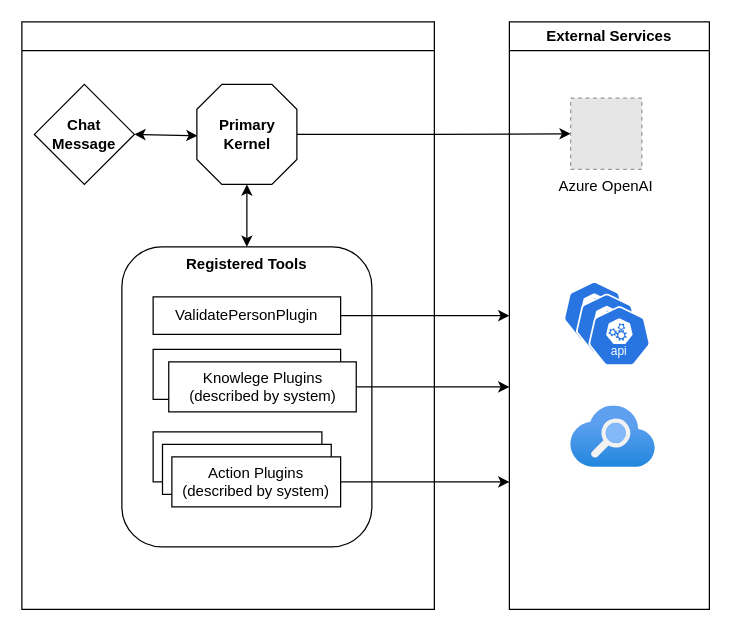
Some shapes in this 731 by 631 pixel diagram are drawn without their labels. Grey dashed boxes stand in for pictures. The shapes that lost their labels are listed below. From the top down, each one's centre as x and y in pixels, then its label:
(227,315): Application
(612,436): AI Search
